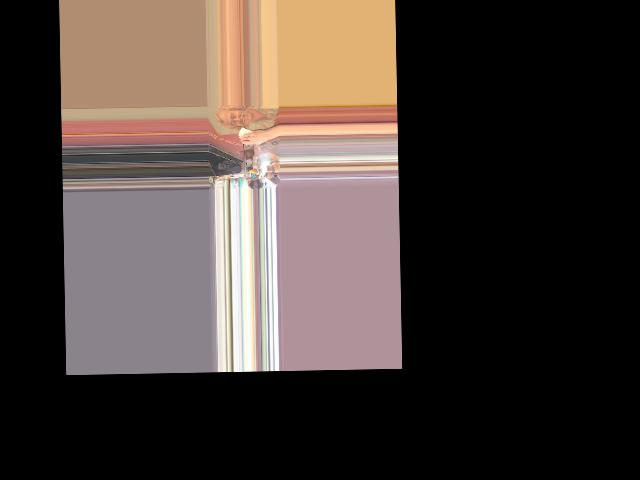beer: (242, 133, 253, 171)
